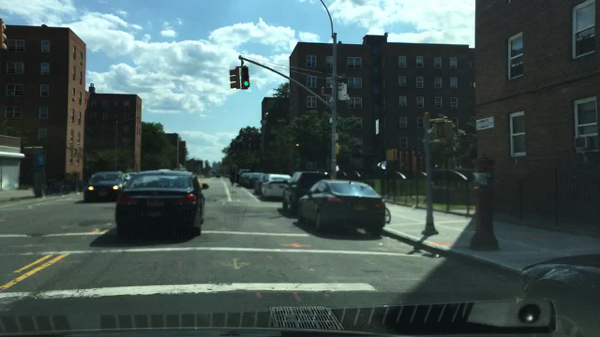car: (507, 255, 599, 337), (116, 168, 209, 240), (296, 179, 386, 237), (280, 172, 330, 215), (83, 172, 131, 204), (259, 173, 291, 200), (253, 173, 270, 195), (245, 173, 264, 189), (235, 168, 251, 181), (239, 173, 249, 187), (124, 171, 135, 180)
motor: (229, 175, 235, 188)
rider: (229, 169, 237, 180)
traffic light: (436, 120, 456, 141), (228, 65, 239, 90), (0, 19, 8, 52), (241, 65, 249, 88), (335, 143, 342, 154)
traffic sign: (335, 122, 354, 128)
